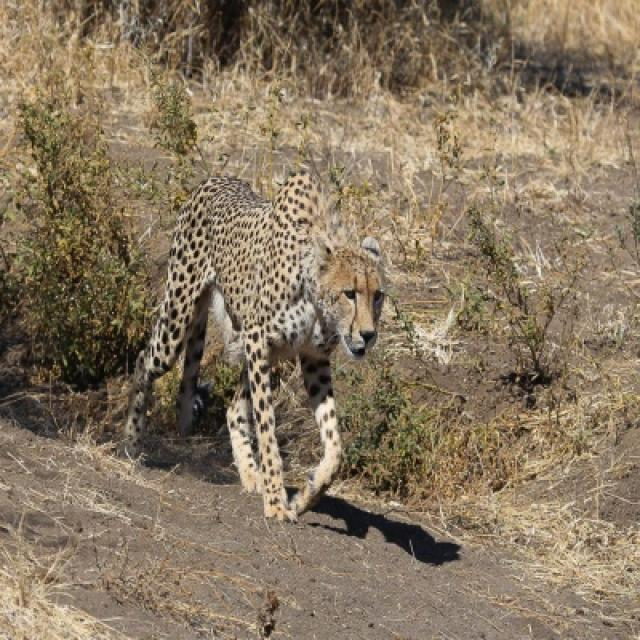Cheetah: (120, 176, 386, 522)
